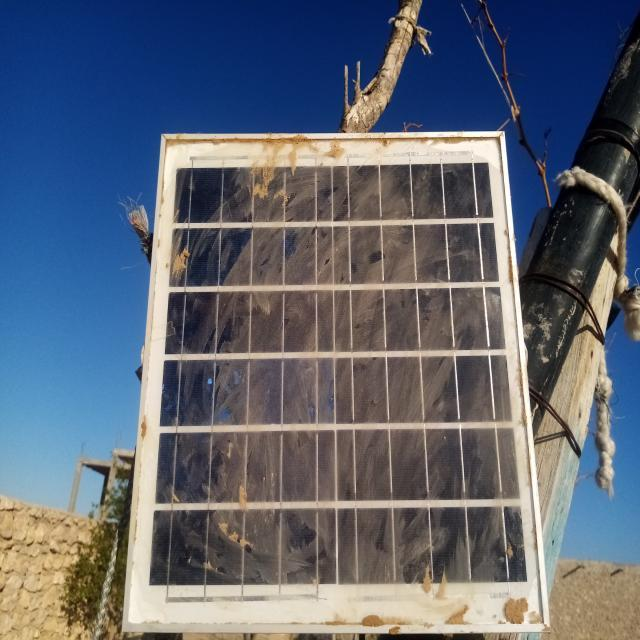faulty: (124, 133, 549, 628)
